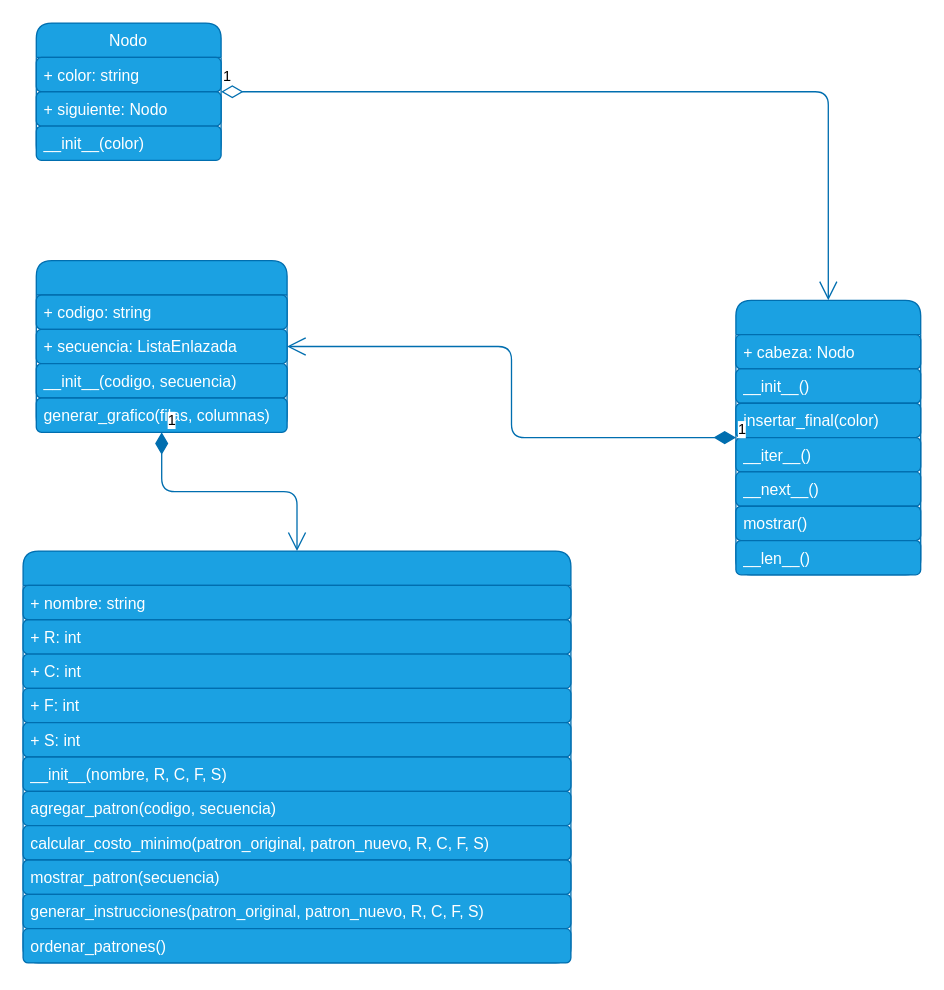
The diagram is 944 pixels wide and 990 high, and some of its shapes have lost their labels. Here are the shapes that lost their labels. From the top down, the box of each, then its label:
(35, 259, 287, 432): Patron
(735, 299, 921, 575): ListaEnlazada
(22, 550, 571, 963): Piso
